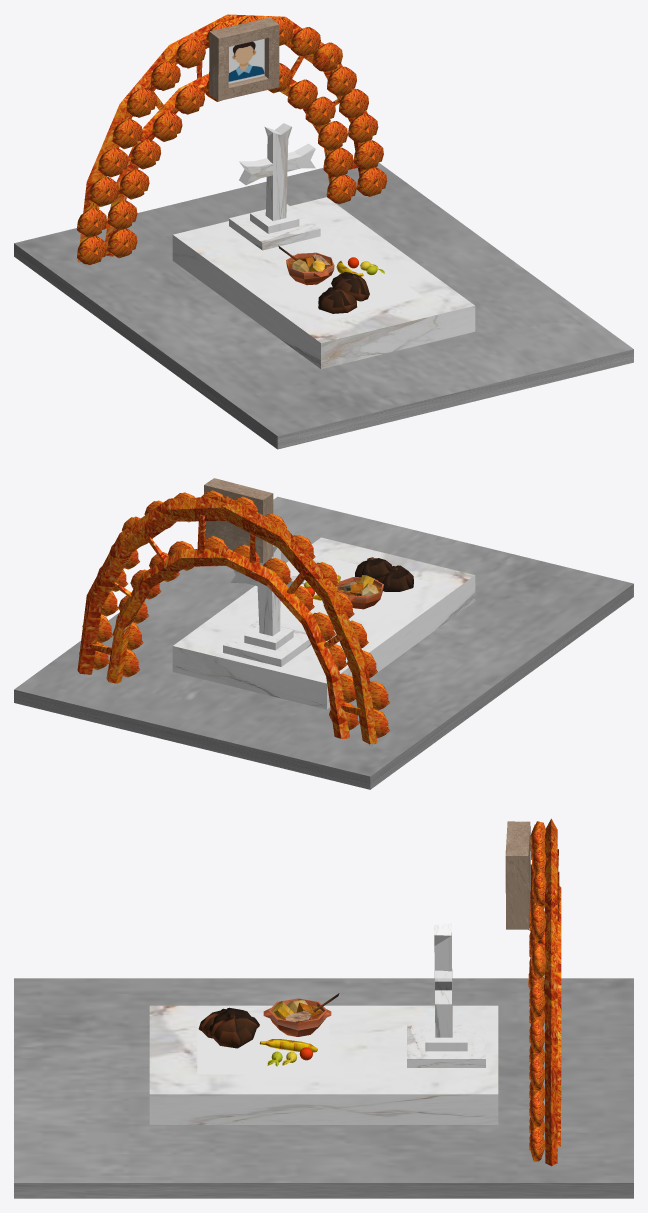
Rendered from tumba1.obj.
3 renders of one model, top to bottom at view 1: azimuth 30°, elevation 25°; view 2: azimuth 150°, elevation 25°; view 3: azimuth 270°, elevation 25°, orthographic. The views are drawn at different scales.
Visible parts, largest first — view 1: Cube.009; view 2: Cube.009; view 3: Cube.009.
Part boxes in pixels (bbox=[...]): Cube.009: bbox=[14, 14, 633, 449]; Cube.009: bbox=[14, 478, 633, 789]; Cube.009: bbox=[14, 818, 633, 1198].
Size of the model in its own units: 4.63 by 2.78 by 5.93.
Materials: 22 (22 with a texture image).
